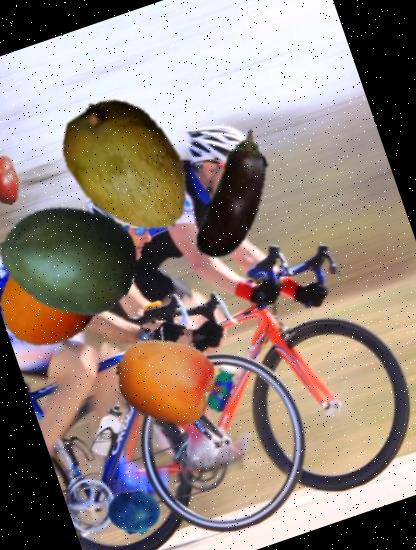Apricot: (101, 317, 230, 445), (0, 233, 116, 364)
Eggplant: (149, 107, 326, 284)
Huckleberry: (102, 480, 168, 546)
Mango: (0, 168, 157, 343)
Papaya: (34, 73, 223, 262)
Potato: (0, 147, 38, 212)
